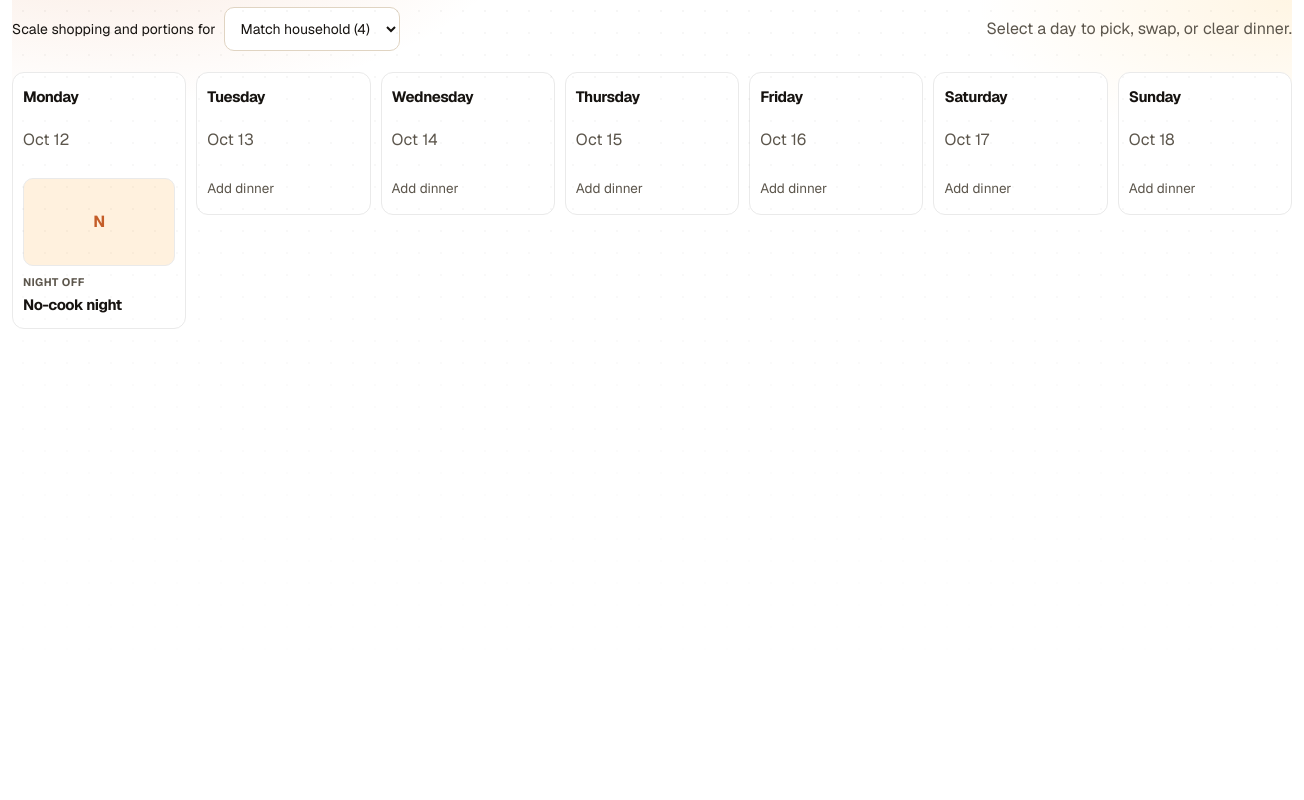
it: MealPlanWeek › lets a cook clear a no-cook night and undo it
Click the button "Monday Oct 12 N Night off No-cook night" at (99, 199), box x1=23 y1=85 x2=175 y2=314
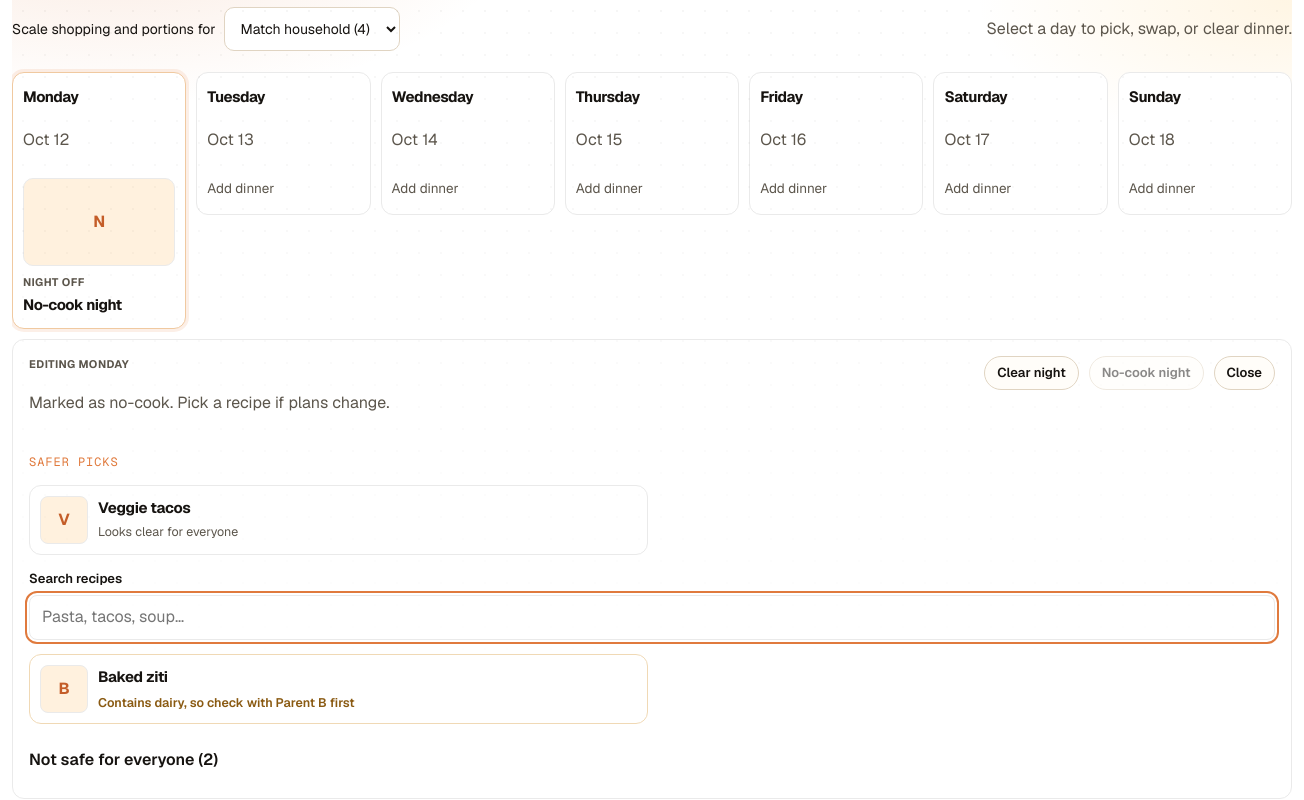
Expected: the text "Marked as no-cook. Pick a recipe if plans change." is shown, x1=29 y1=390 x2=389 y2=416
Click the button "Clear night" at (1031, 373), box x1=984 y1=356 x2=1079 y2=390
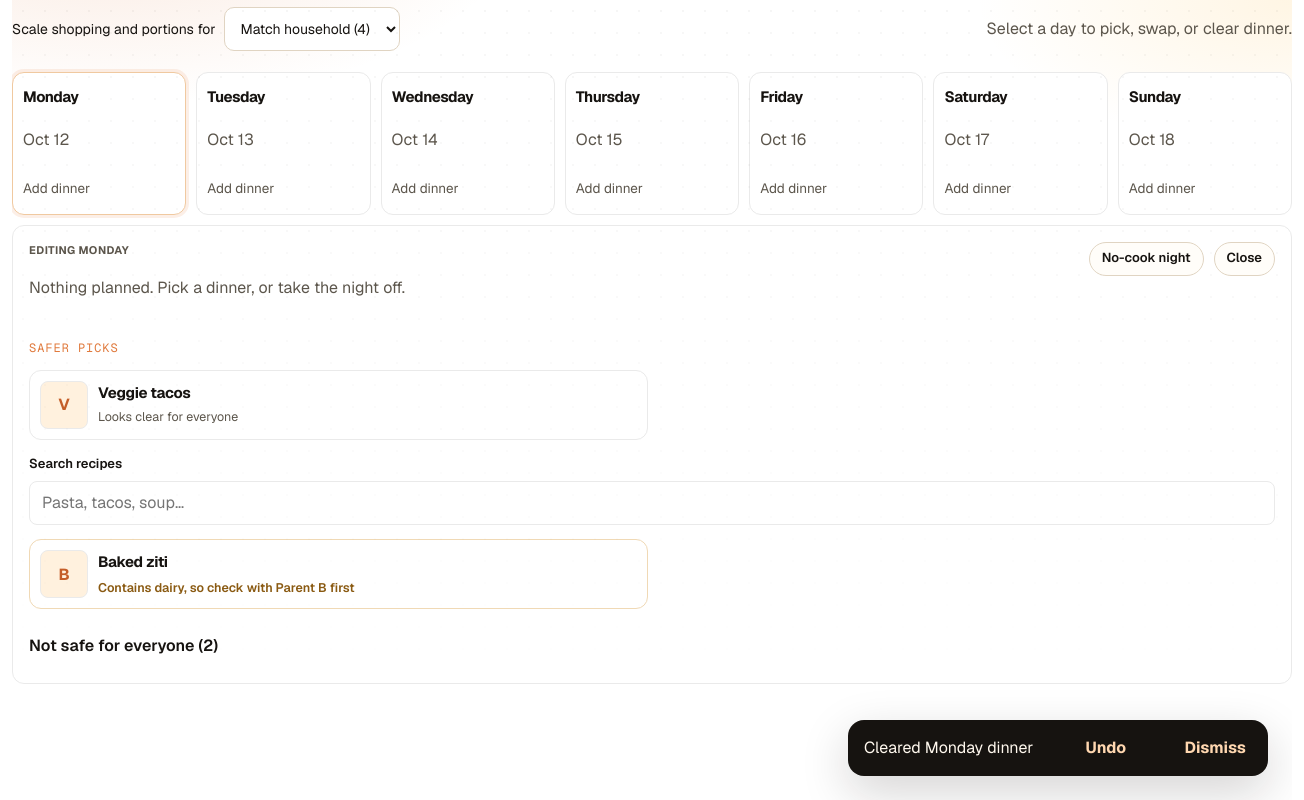
Expected: the text "Cleared Monday dinner" is shown, x1=864 y1=735 x2=1033 y2=761
Expected: the text "Add dinner" is shown 7 times
Click the button "Undo" at (1106, 748), box x1=1080 y1=734 x2=1132 y2=762
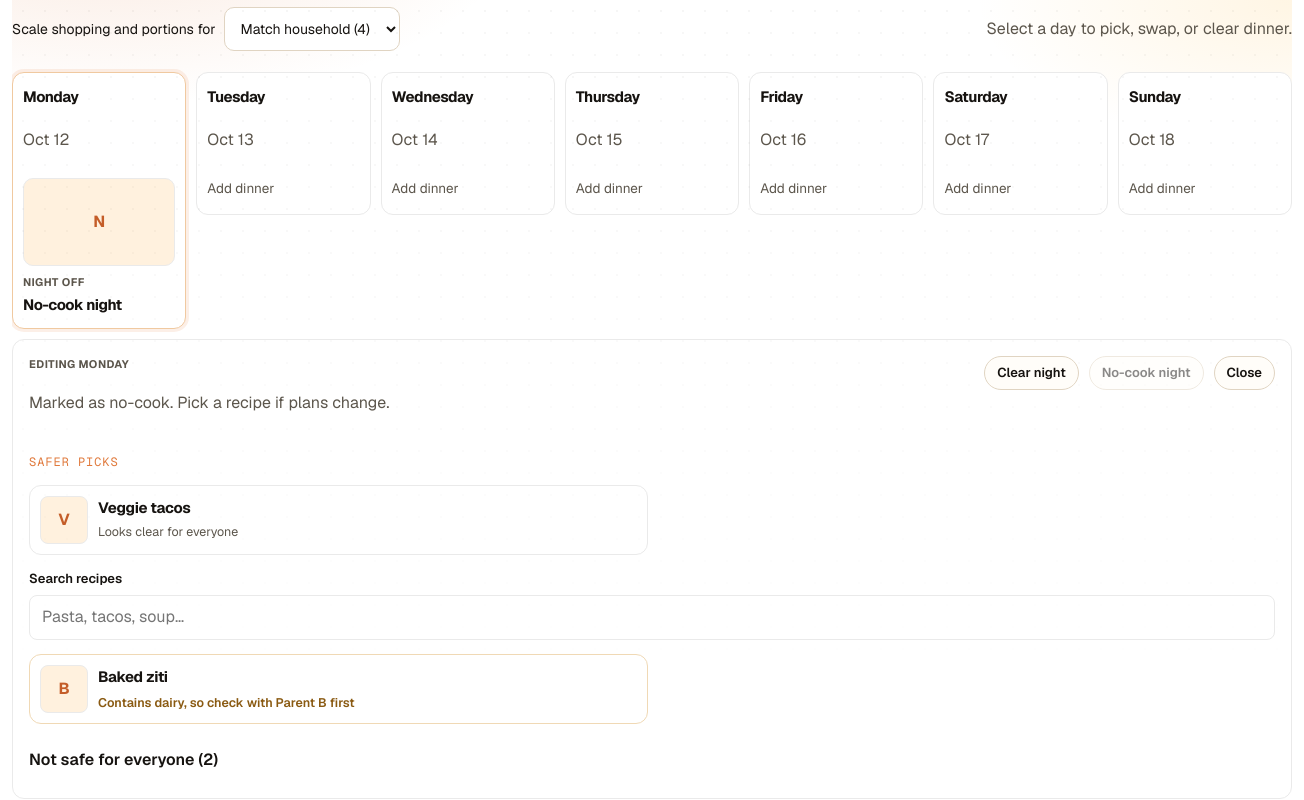
Expected: the heading "No-cook night" is shown, x1=23 y1=295 x2=122 y2=314
